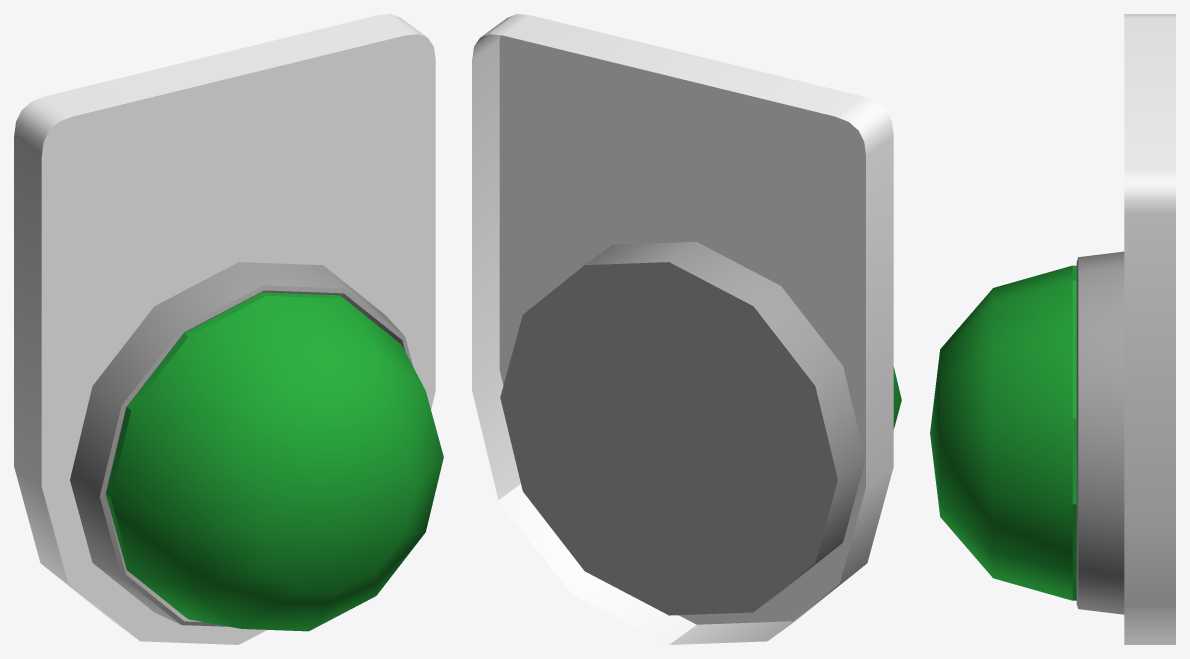
File: abc_button_on2.fbx
3 renders of one model, left to right at view 1: azimuth 30°, elevation 25°; view 2: azimuth 150°, elevation 25°; view 3: azimuth 270°, elevation 25°, orthographic. The views are drawn at different scales.
Parts seen in each view (by area): view 1: abc_button_on3; view 2: abc_button_on3; view 3: abc_button_on3.
Part boxes in pixels (x1,y1,x2,y2): abc_button_on3: (14,14,443,644); abc_button_on3: (472,14,901,644); abc_button_on3: (930,14,1175,644).
Size of the model in its own units: 0.0293 by 0.0405 by 0.017.
Materials: 1 (1 with a texture image).
